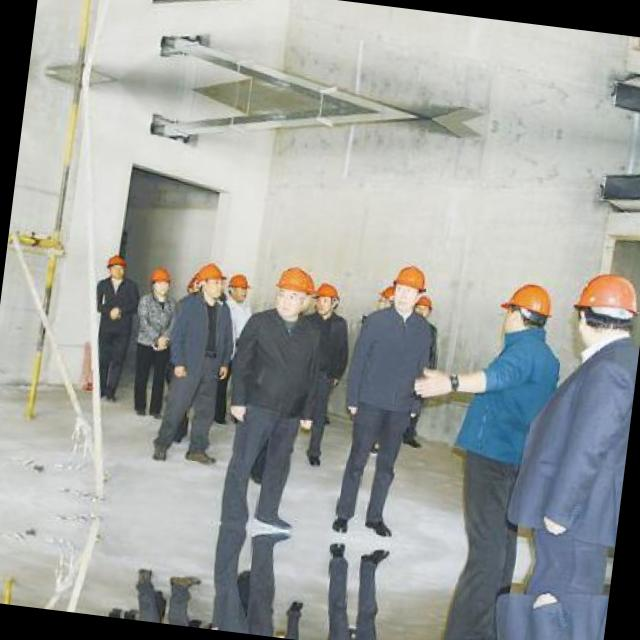helmet: (563, 267, 640, 352), (494, 280, 554, 340), (268, 260, 317, 317), (386, 260, 430, 308), (187, 258, 221, 304), (226, 267, 256, 307), (311, 278, 341, 318), (146, 262, 178, 298), (102, 248, 130, 282), (411, 292, 437, 321), (373, 284, 396, 316)
